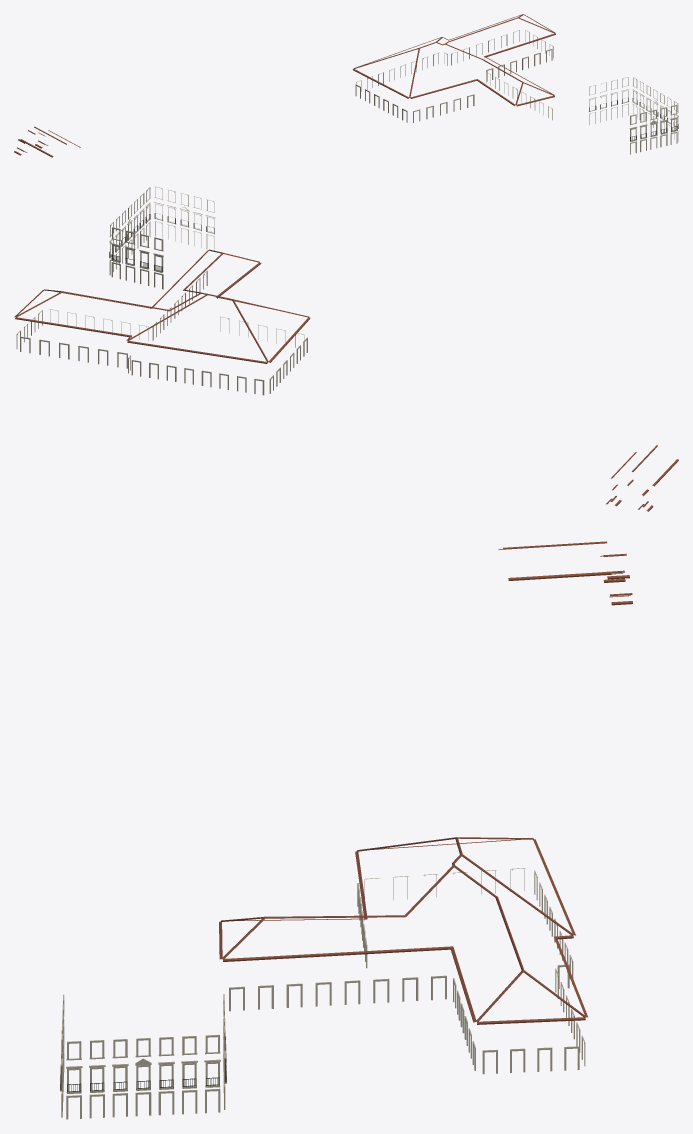
3 views of the same model, one above another, from view 1: azimuth 30°, elevation 25°; view 2: azimuth 150°, elevation 25°; view 3: azimuth 270°, elevation 25° (orthographic). The views are drawn at different scales.
Parts seen in each view (by area): view 1: detail; view 2: detail; view 3: detail.
Boxes of the visible parts, x1,y1,x2,y2 form: detail: [14, 14, 678, 157]; detail: [14, 186, 678, 511]; detail: [60, 541, 632, 1119].
Bounding box in the file's own units: 128 × 14.6 × 60.29.
